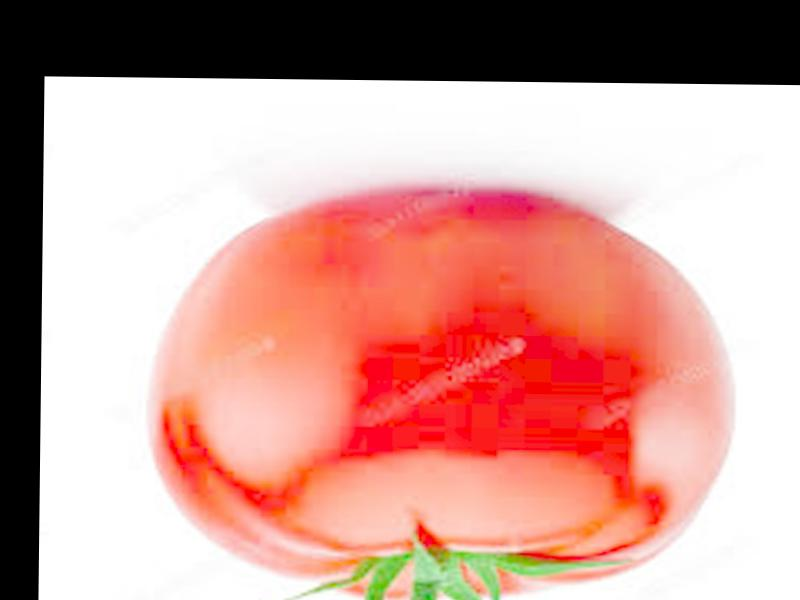Tomato: (146, 198, 737, 600)
